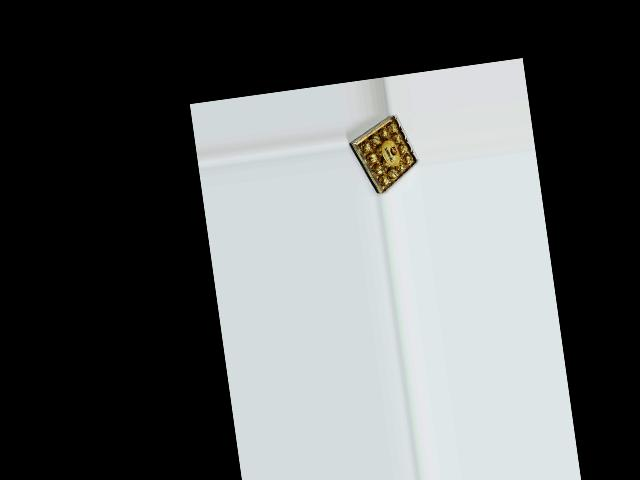chocolate: (344, 111, 422, 198)
